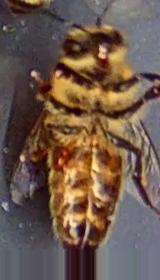varroa_mite: (38, 130, 79, 184)
